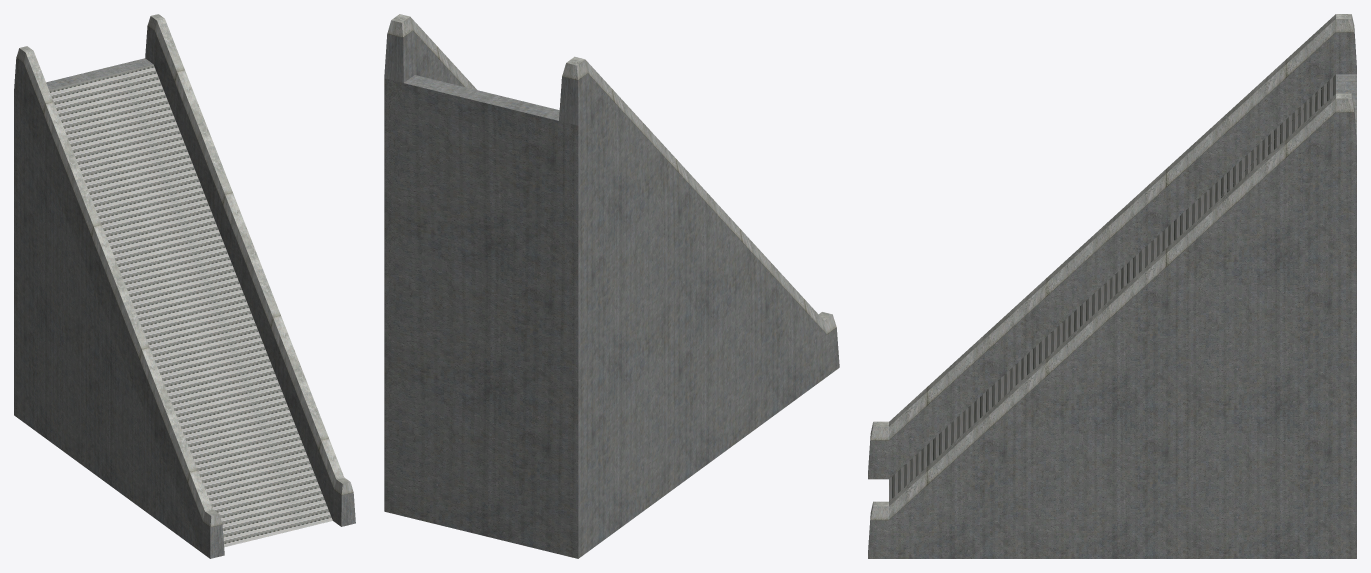
Rendered from thm_corl_imprv_stair_large_s01_l2.fbx.
3 renders of one model, left to right at view 1: azimuth 30°, elevation 25°; view 2: azimuth 150°, elevation 25°; view 3: azimuth 270°, elevation 25°, orthographic. The views are drawn at different scales.
Parts seen in each view (by area): view 1: mesh_node; view 2: mesh_node; view 3: mesh_node.
Boxes of the visible parts, bbox=[...] form: mesh_node: bbox=[14, 14, 355, 558]; mesh_node: bbox=[384, 14, 839, 558]; mesh_node: bbox=[868, 14, 1356, 558].
Bounding box in the file's own units: 7.5 × 18.11 × 17.5.
